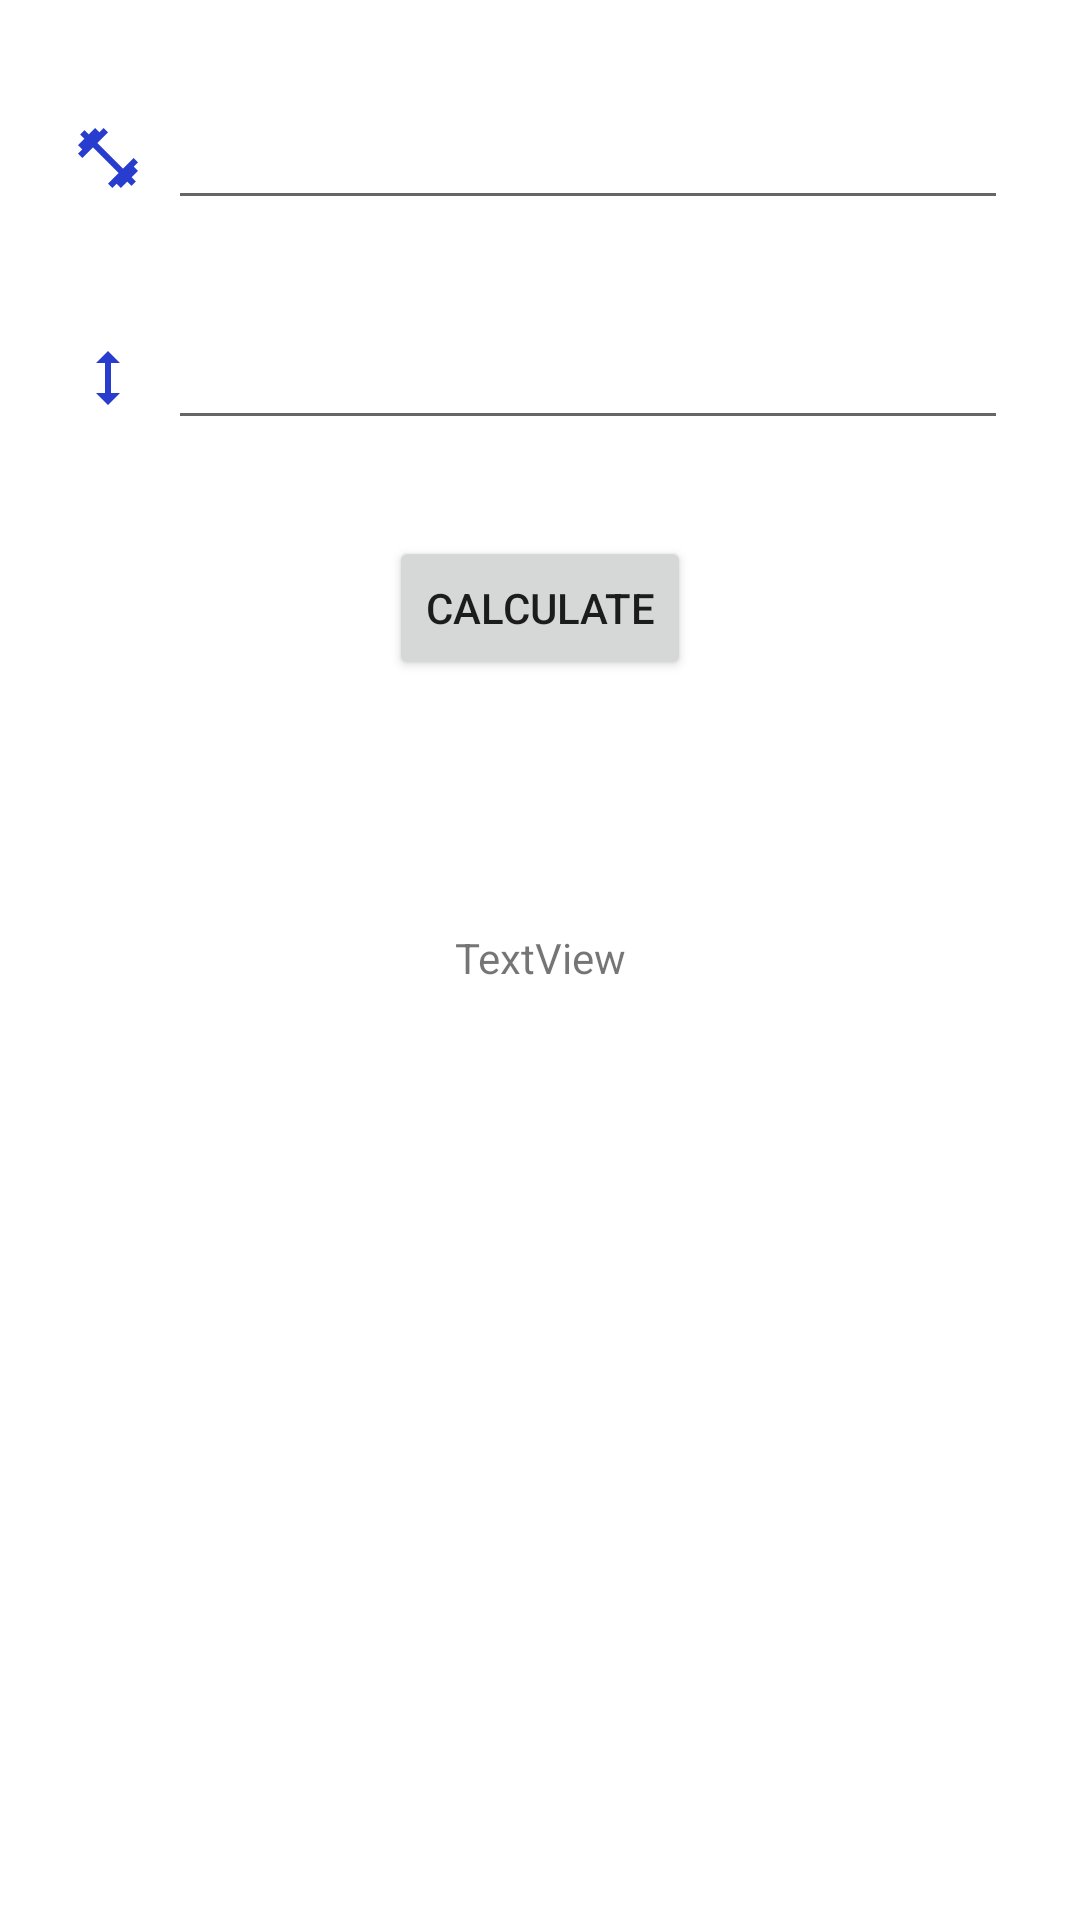

Icon bounding boxes for this 1080px x 1920px phone screenshot, format (x1, y1, x2, y2):
fitness center: (78, 128, 138, 188)
height: (96, 351, 120, 405)
